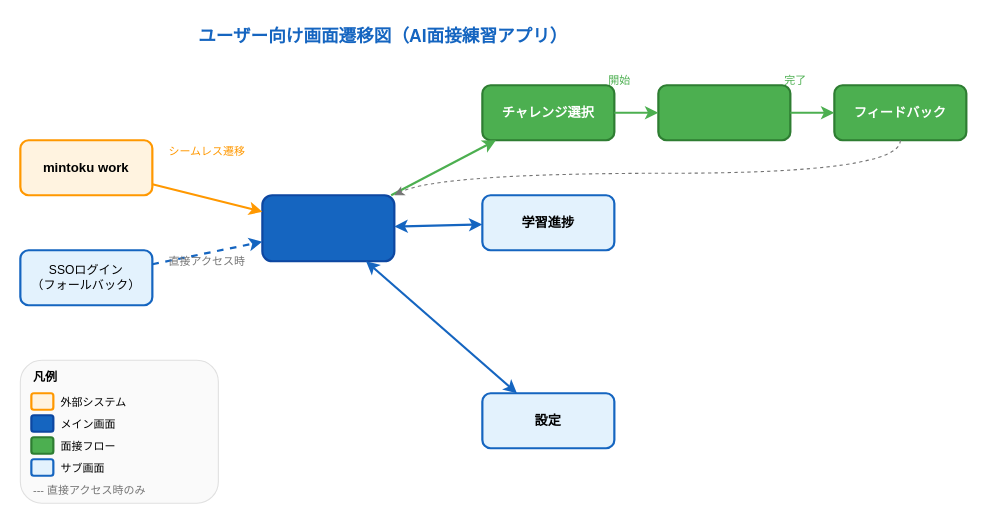
Some shapes in this 986 by 523 pixel diagram are drawn without their labels. Each missing label, with the centre of its shape:
"ホーム" goes at point (328, 228).
"面接練習" goes at point (724, 112).
